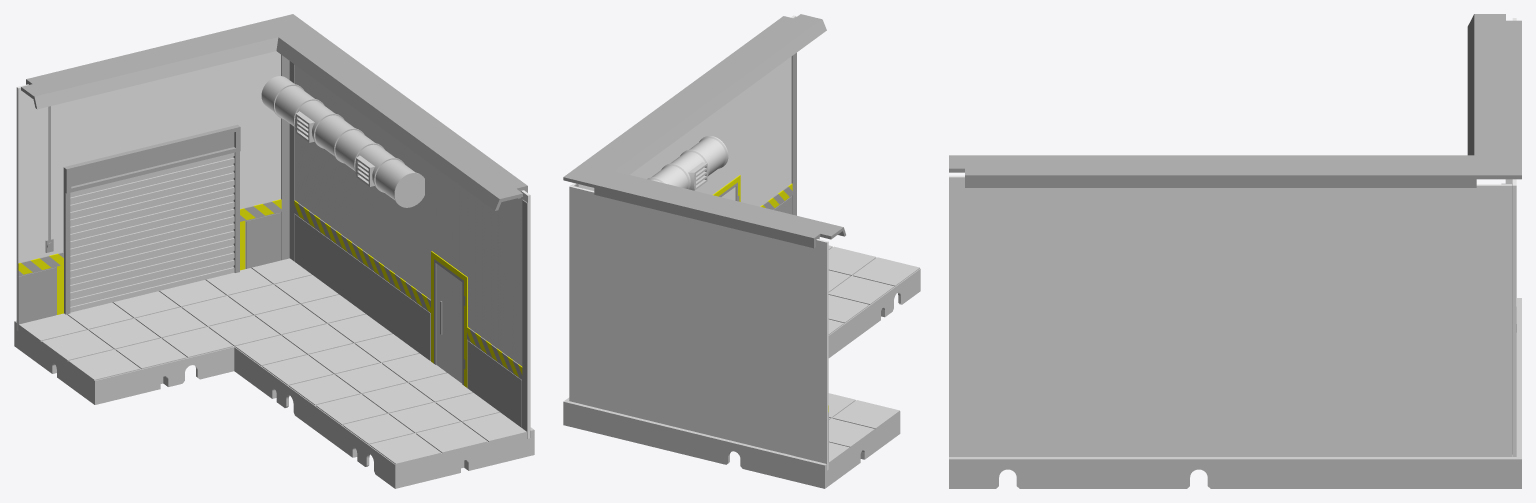
The model's file is eckprofil_rechts.glb.
The picture shows the model from 3 angles, left to right: view 1: azimuth 30°, elevation 25°; view 2: azimuth 150°, elevation 25°; view 3: azimuth 270°, elevation 25°; orthographic projection. The views are drawn at different scales.
Parts seen in each view (by area): view 1: MirrorWand_Garage-2, MirrorWerkstattboden-2, MirrorSeitenwand_Garage-2, MirrorArtika_Winkel-2, Lüftung-2; view 2: MirrorWand_Garage-2, MirrorWerkstattboden-2, MirrorArtika_Winkel-2, MirrorSeitenwand_Garage-2, Lüftung-2; view 3: MirrorSeitenwand_Garage-2, MirrorArtika_Winkel-2, MirrorWerkstattboden-2, MirrorWand_Garage-2.
Part boxes in pixels (<box>): MirrorWand_Garage-2: <box>16,51,289,330</box>; MirrorWerkstattboden-2: <box>14,258,534,488</box>; MirrorSeitenwand_Garage-2: <box>289,61,530,438</box>; MirrorArtika_Winkel-2: <box>21,14,527,210</box>; Lüftung-2: <box>261,76,424,207</box>; MirrorWand_Garage-2: <box>569,185,828,470</box>; MirrorWerkstattboden-2: <box>563,245,920,488</box>; MirrorArtika_Winkel-2: <box>563,14,845,248</box>; MirrorSeitenwand_Garage-2: <box>571,15,796,215</box>; Lüftung-2: <box>647,136,728,190</box>; MirrorSeitenwand_Garage-2: <box>949,175,1512,456</box>; MirrorArtika_Winkel-2: <box>949,14,1521,187</box>; MirrorWerkstattboden-2: <box>949,298,1521,488</box>; MirrorWand_Garage-2: <box>1505,18,1516,456</box>.
Bounding box in the file's own units: 0.12 × 0.1087 × 0.18.
